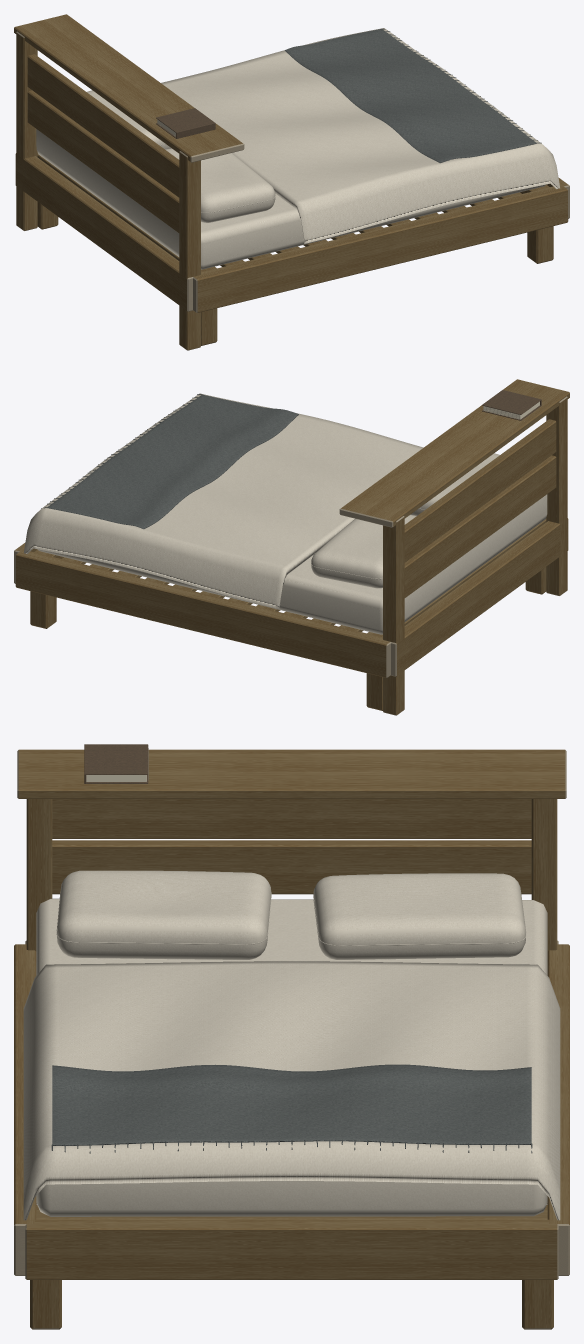
3 views of the same model, one above another, from view 1: azimuth 30°, elevation 25°; view 2: azimuth 150°, elevation 25°; view 3: azimuth 270°, elevation 25° (orthographic). The views are drawn at different scales.
Parts seen in each view (by area): view 1: Mesh_warm, Mesh_linen, Mesh_throw, Mesh_leather, Mesh_endgrain; view 2: Mesh_warm, Mesh_linen, Mesh_throw, Mesh_leather, Mesh_endgrain; view 3: Mesh_linen, Mesh_warm, Mesh_throw, Mesh_leather, Mesh_endgrain.
Part boxes in pixels (x1=…): Mesh_warm: x1=14, y1=14, x2=568, y2=349; Mesh_linen: x1=36, y1=28, x2=559, y2=269; Mesh_throw: x1=285, y1=28, x2=541, y2=163; Mesh_leather: x1=156, y1=108, x2=215, y2=138; Mesh_endgrain: x1=16, y1=31, x2=569, y2=350; Mesh_warm: x1=15, y1=379, x2=569, y2=714; Mesh_linen: x1=24, y1=393, x2=547, y2=634; Mesh_throw: x1=41, y1=394, x2=298, y2=529; Mesh_leather: x1=482, y1=390, x2=541, y2=420; Mesh_endgrain: x1=14, y1=396, x2=567, y2=715; Mesh_linen: x1=23, y1=870, x2=560, y2=1220; Mesh_warm: x1=14, y1=749, x2=569, y2=1329; Mesh_throw: x1=51, y1=1064, x2=532, y2=1153; Mesh_leather: x1=84, y1=744, x2=148, y2=783; Mesh_endgrain: x1=14, y1=750, x2=569, y2=1329.
Bounding box in the file's own units: 2.14 × 1.09 × 1.74.
Materials: 6 (5 with a texture image).
